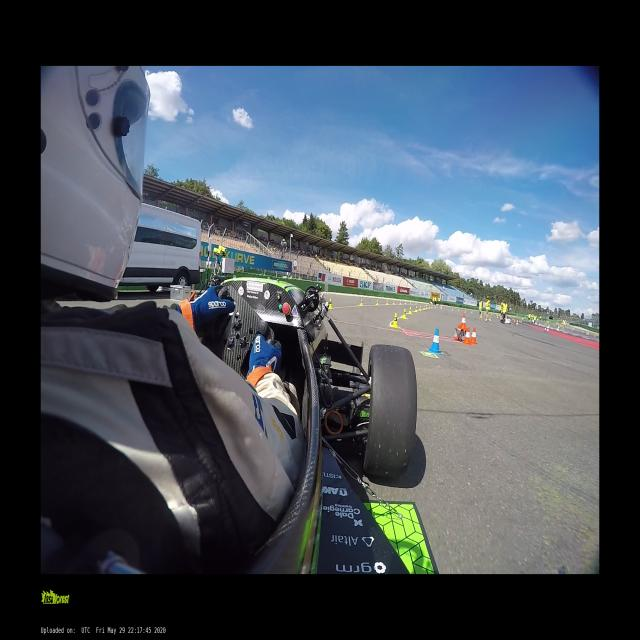blue_cone: (429, 327, 442, 353)
orange_cone: (464, 326, 472, 345), (460, 313, 468, 328), (472, 326, 478, 344)
yellow_cone: (391, 312, 399, 328), (402, 308, 407, 319), (328, 297, 333, 308), (414, 305, 418, 312), (418, 305, 422, 311), (414, 306, 420, 310), (360, 298, 362, 306), (426, 305, 430, 309), (408, 308, 411, 313), (422, 305, 425, 310), (385, 300, 388, 305), (488, 315, 491, 320), (376, 300, 378, 306), (425, 305, 428, 309), (479, 313, 482, 317), (392, 300, 394, 304), (451, 307, 453, 310)
